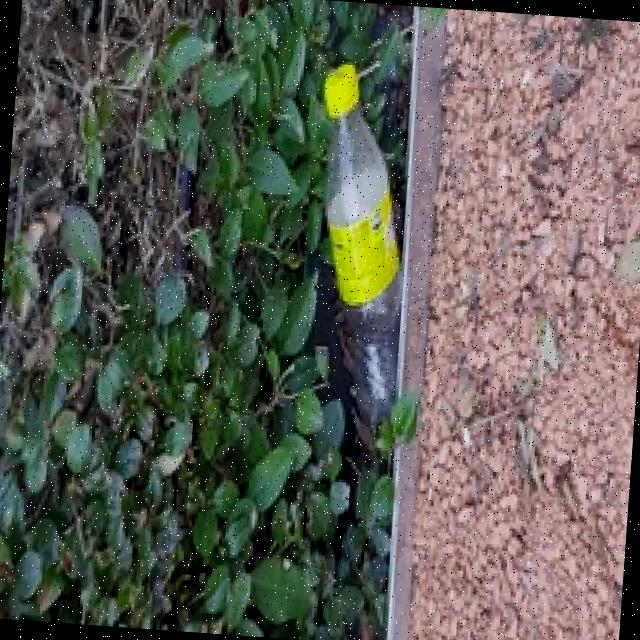bottle: (269, 36, 455, 458)
cap: (318, 55, 363, 114)
label: (304, 188, 414, 312)
